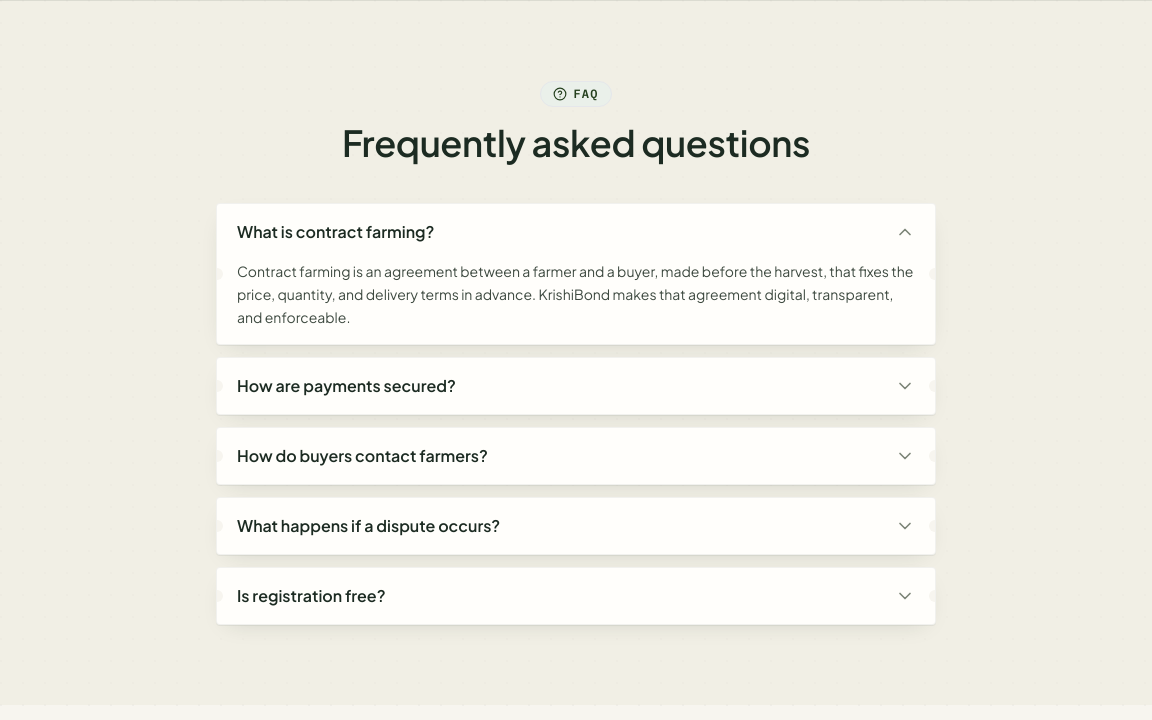
Test case: FAQAccordion › toggles a question open and closed on click
Click the button "How are payments secured?" at (346, 386), box x1=217 y1=358 x2=935 y2=414
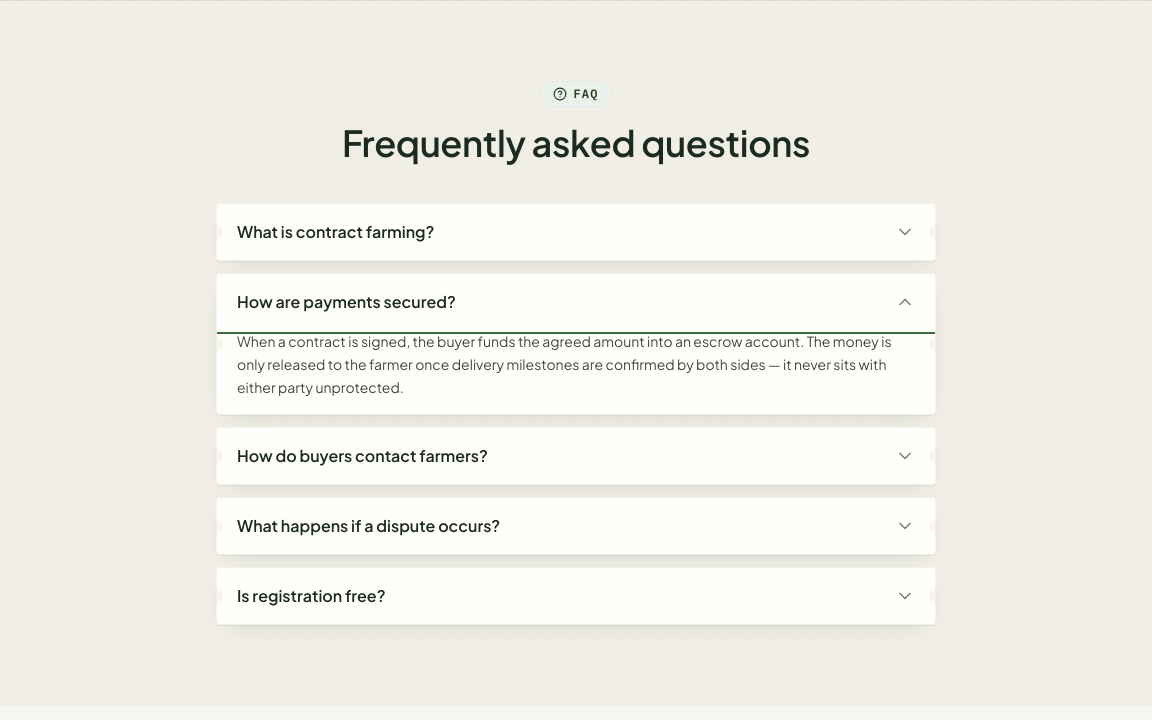
Expected: the button "How are payments secured?" is expanded
Click the button "How are payments secured?" at (346, 302), box x1=217 y1=274 x2=935 y2=330
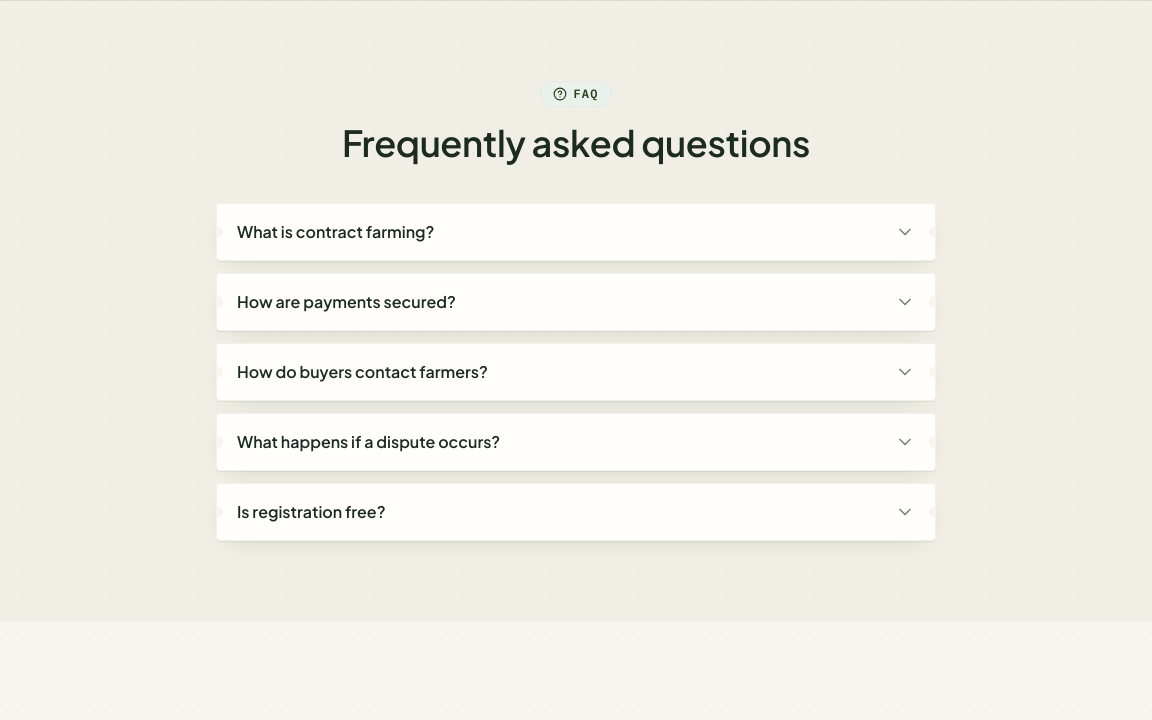
Expected: the button "How are payments secured?" is collapsed, x1=217 y1=274 x2=935 y2=330
